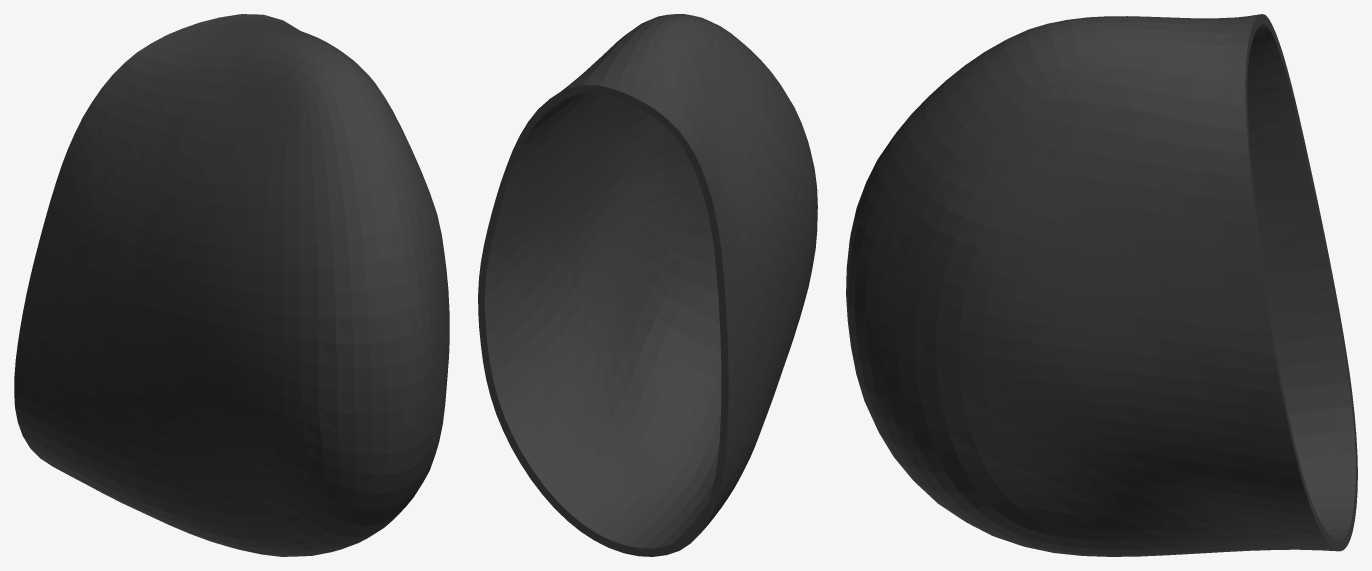
Rendered from stom_fundus_LP.glb.
3 views of the same model, side by side, from view 1: azimuth 30°, elevation 25°; view 2: azimuth 150°, elevation 25°; view 3: azimuth 270°, elevation 25° (orthographic). The views are drawn at different scales.
Visible parts, largest first — view 1: stom_fundus_LP; view 2: stom_fundus_LP; view 3: stom_fundus_LP.
Boxes of the visible parts, left/top/right/bottom form: stom_fundus_LP: left=14, top=14, right=449, bottom=556; stom_fundus_LP: left=478, top=14, right=817, bottom=556; stom_fundus_LP: left=846, top=14, right=1357, bottom=556.
Bounding box in the file's own units: 0.00276 × 0.00427 × 0.00359.
1 material, 1 textured.
